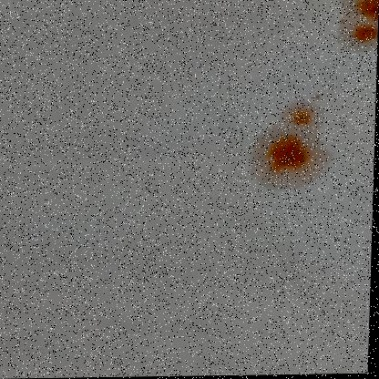kimchi: (266, 107, 322, 184), (347, 1, 379, 45)
